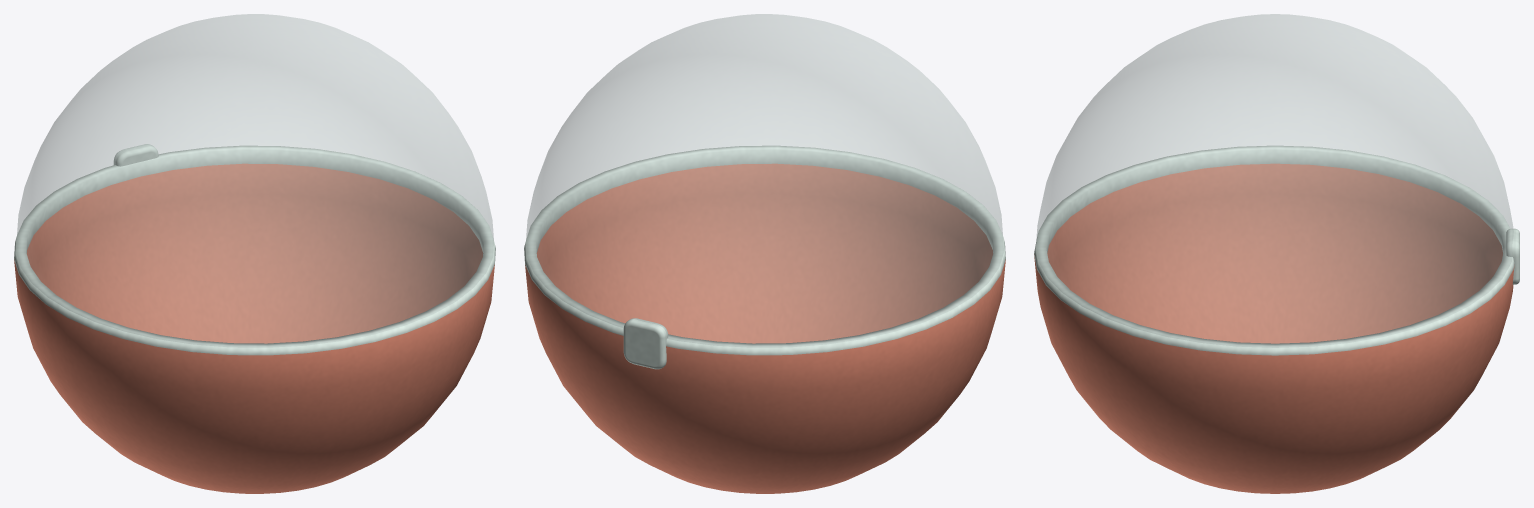
3 views of the same model, side by side, from view 1: azimuth 30°, elevation 25°; view 2: azimuth 150°, elevation 25°; view 3: azimuth 270°, elevation 25° (orthographic).
Visible parts, largest first — view 1: Top, Bottom, Rim, Latch; view 2: Top, Bottom, Rim, Latch; view 3: Top, Bottom, Rim, Latch.
Part boxes in pixels (box(x1,y1,x2,y2)): Top: box(16, 14, 493, 347); Bottom: box(14, 163, 494, 493); Rim: box(14, 145, 495, 355); Latch: box(113, 144, 158, 166); Top: box(526, 14, 1003, 347); Bottom: box(525, 163, 1005, 493); Rim: box(524, 145, 1005, 355); Latch: box(623, 318, 668, 369); Top: box(1036, 14, 1513, 347); Bottom: box(1034, 163, 1514, 493); Rim: box(1034, 145, 1514, 355); Latch: box(1506, 228, 1519, 284).
Size of the model in its own units: 0.14 by 0.1396 by 0.141.
4 materials, 4 textured.
